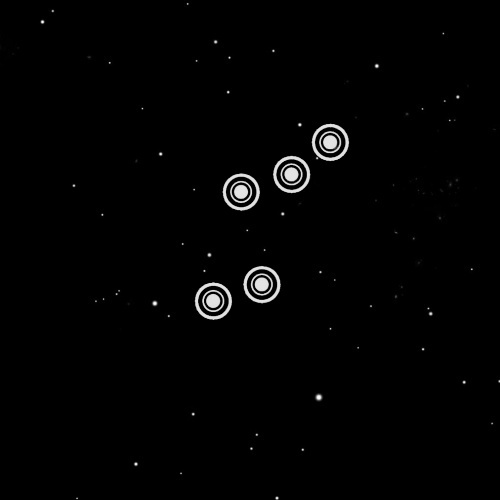lyra: (187, 110, 353, 336)
